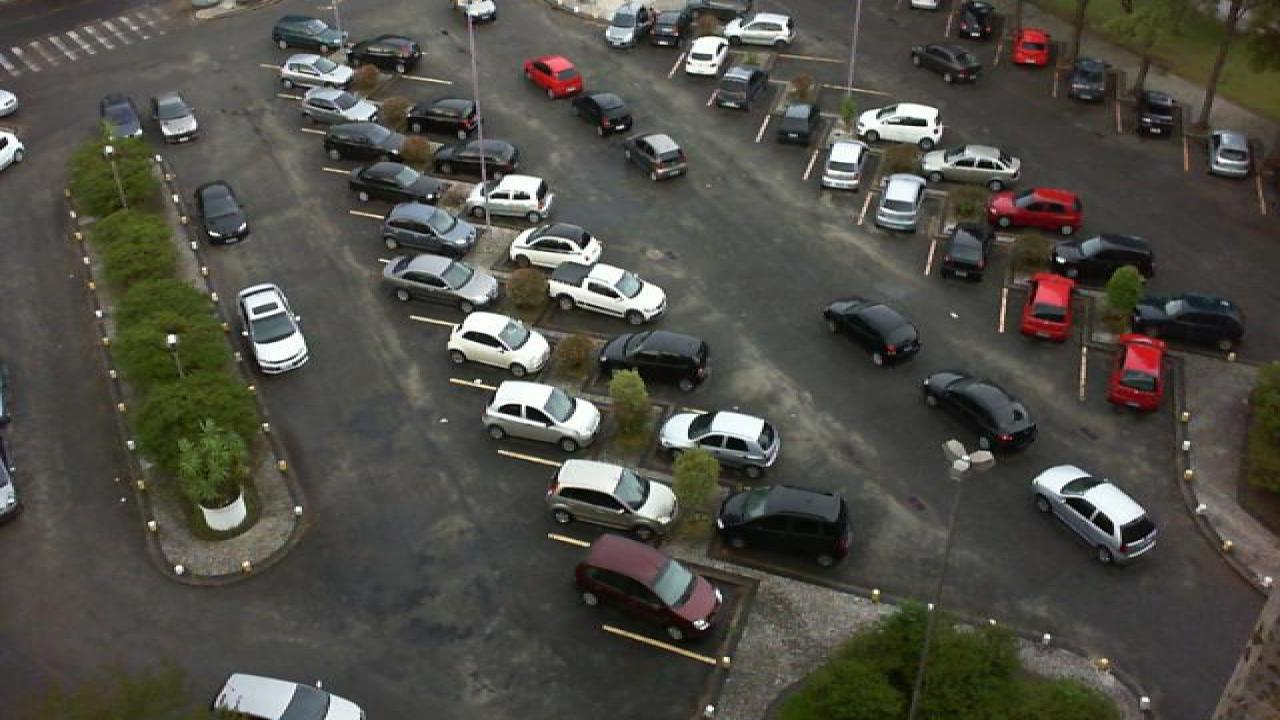Car: (572, 534, 726, 648), (1030, 462, 1162, 567), (544, 456, 682, 544), (714, 484, 854, 570), (920, 369, 1040, 456), (656, 405, 784, 481), (482, 378, 604, 456), (546, 261, 670, 325), (594, 327, 712, 394), (376, 252, 506, 312), (820, 296, 926, 369), (444, 309, 554, 378), (234, 281, 312, 377), (1132, 290, 1248, 351), (372, 200, 484, 259), (1052, 232, 1160, 291), (506, 221, 608, 276), (988, 185, 1088, 238), (460, 172, 556, 225), (412, 135, 518, 182), (1108, 330, 1168, 412), (350, 155, 448, 204), (918, 145, 1024, 190), (1018, 270, 1080, 343), (856, 102, 944, 148), (194, 179, 252, 246), (320, 120, 412, 162), (404, 96, 484, 140), (938, 219, 992, 284), (622, 131, 688, 181), (298, 89, 380, 129), (280, 56, 366, 94), (270, 15, 352, 54), (874, 172, 926, 233), (570, 89, 636, 135), (910, 40, 984, 80), (350, 34, 426, 72), (1206, 129, 1262, 180), (816, 138, 866, 194), (522, 54, 584, 99), (708, 63, 762, 113), (1130, 88, 1186, 136), (152, 91, 202, 144), (724, 12, 794, 48), (98, 92, 146, 142), (1060, 56, 1112, 102), (678, 34, 730, 78), (774, 100, 820, 148), (604, 1, 650, 49), (646, 2, 688, 50), (1012, 27, 1054, 70), (954, 0, 996, 39)
